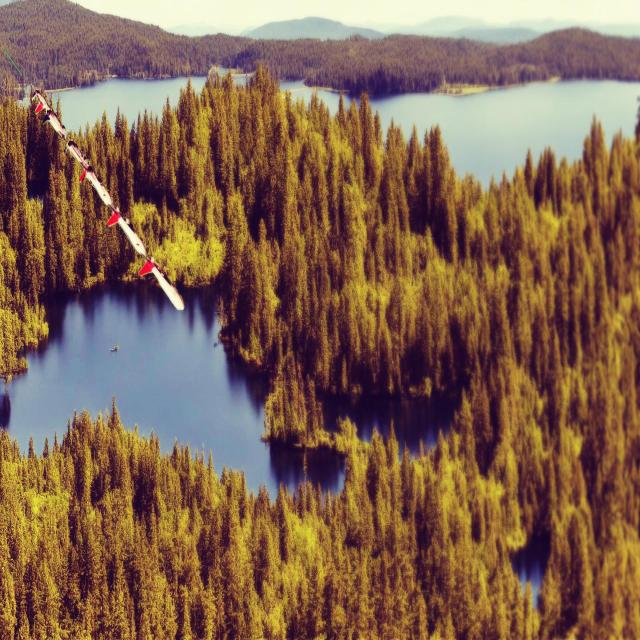airplane: (64, 140, 112, 208), (138, 253, 185, 312), (29, 84, 66, 140), (108, 207, 147, 258)
